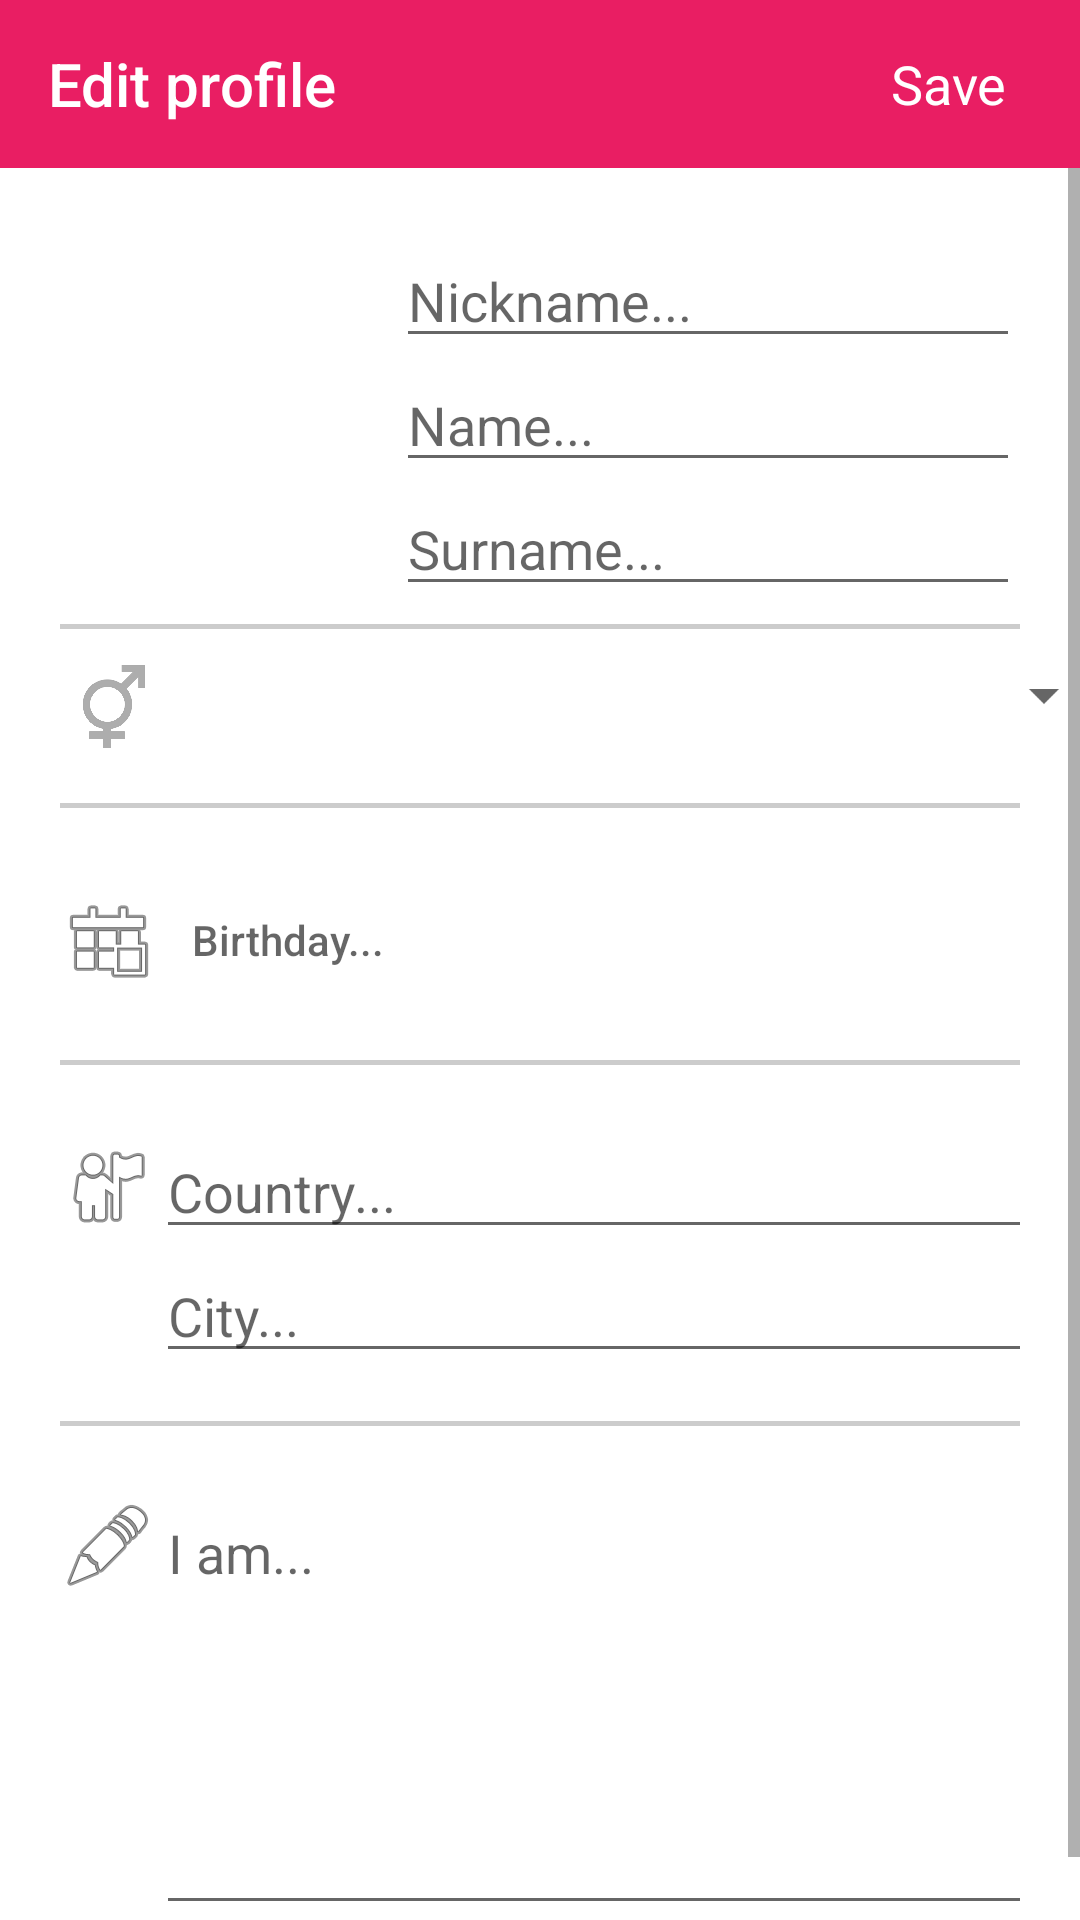

Named icons in this screenshot (1080×1920) and their centers, (x,y):
About icon: (107,1545)
Gender icon: (114,706)
